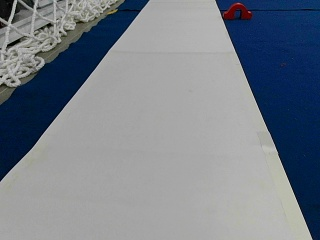bridge: (222, 2, 252, 18)
